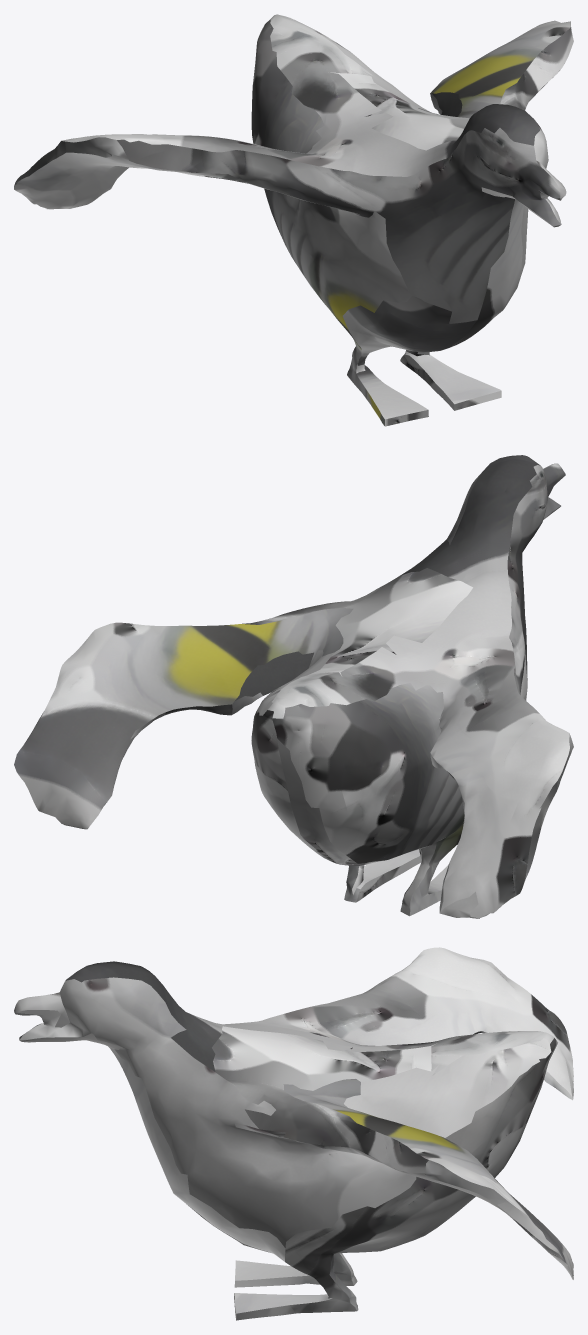
Rendered from prompt_86_test.obj.
3 renders of one model, top to bottom at view 1: azimuth 30°, elevation 25°; view 2: azimuth 150°, elevation 25°; view 3: azimuth 270°, elevation 25°, orthographic. The views are drawn at different scales.
Parts seen in each view (by area): view 1: geometry_0_0; view 2: geometry_0_0; view 3: geometry_0_0.
Part boxes in pixels (x1=…): geometry_0_0: x1=14, y1=14, x2=573, y2=426; geometry_0_0: x1=14, y1=455, x2=573, y2=918; geometry_0_0: x1=14, y1=947, x2=573, y2=1320.
Size of the model in its own units: 1.54 by 1.01 by 1.55.
